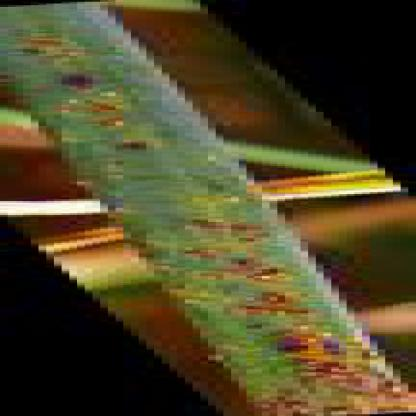wheat Stem Rust: (252, 327, 360, 382), (194, 250, 298, 284), (260, 391, 405, 409), (194, 214, 266, 249), (220, 287, 306, 316), (62, 92, 140, 118), (161, 181, 245, 204), (98, 130, 169, 156), (14, 36, 85, 60), (113, 160, 166, 178), (50, 72, 108, 85)
